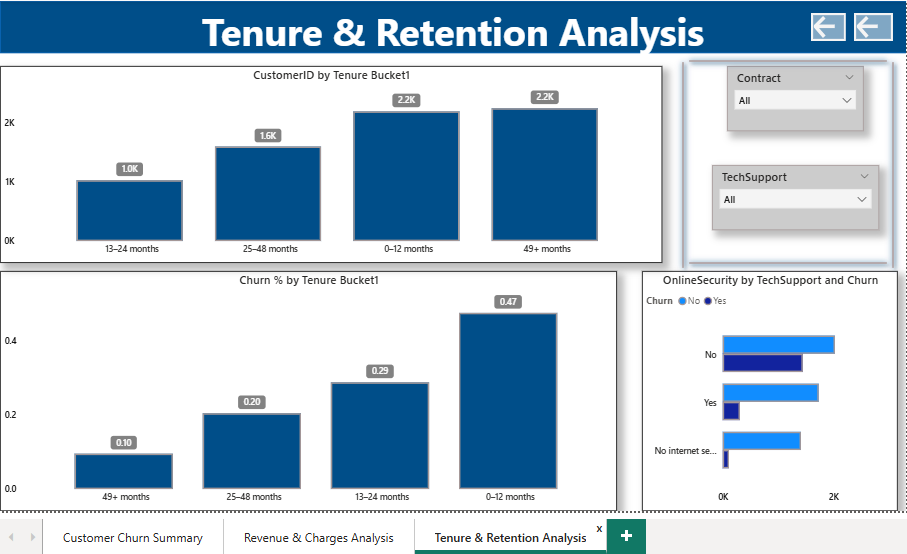

The dashboard page shown, as its layout file describes it:
{"tool":"powerbi","page":{"name":"Tenure & Retention Analysis","canvas":[1280,720],"ordinal":2},"visuals":[{"type":"shape","box":[0,0,1280.2,73.7],"z":0},{"type":"textbox","box":[278.1,0,722.8,183.5],"z":1},{"type":"columnChart","title":"CustomerID by Tenure Bucket1","fields":{"Category":["WA_Fn-UseC_-Telco-Customer-Churn.Tenure Bucket1"],"Y":["CountNonNull(WA_Fn-UseC_-Telco-Customer-Churn.customerID)"]},"box":[0,91.8,934.6,278.1],"z":2},{"type":"columnChart","fields":{"Y":["WA_Fn-UseC_-Telco-Customer-Churn.Churn %"],"Category":["WA_Fn-UseC_-Telco-Customer-Churn.Tenure Bucket1"]},"box":[0,381.2,871.1,338.8],"z":3},{"type":"clusteredBarChart","title":"OnlineSecurity by TechSupport and Churn","fields":{"Category":["WA_Fn-UseC_-Telco-Customer-Churn.TechSupport"],"Y":["CountNonNull(WA_Fn-UseC_-Telco-Customer-Churn.OnlineSecurity)"],"Series":["WA_Fn-UseC_-Telco-Customer-Churn.Churn"]},"box":[906.4,381.2,361.4,338.8],"z":4},{"type":"slicer","fields":{"Values":["WA_Fn-UseC_-Telco-Customer-Churn.Contract"]},"box":[1026.4,91.8,193.4,91.8],"z":5},{"type":"slicer","fields":{"Values":["WA_Fn-UseC_-Telco-Customer-Churn.TechSupport"]},"box":[1005.2,231.5,235.8,91.8],"z":6},{"type":"shape","box":[934.6,77.6,59.3,307.8],"z":7},{"type":"shape","box":[1240.9,77.6,39.5,307.8],"z":8},{"type":"shape","box":[964.2,0,296.5,169.4],"z":9},{"type":"shape","box":[964.2,285.2,296.5,169.4],"z":10},{"type":"actionButton","box":[1144.9,16.9,49.4,39.5],"z":11},{"type":"actionButton","box":[1205.6,16.9,55.1,39.5],"z":12}]}

Visuals, with their boxes on the page's 1280x720 design canvas (x1, y1, x2, y2). These are canvas units, not pixel positions in the 907x554 screenshot, which may show the page scaled, cropped or inside an application window:
shape: (0,0,1280,74)
textbox: (278,0,1001,184)
"CustomerID by Tenure Bucket1" columnChart: (0,92,935,370)
columnChart - WA_Fn-UseC_-Telco-Customer-Churn.Churn % x WA_Fn-UseC_-Telco-Customer-Churn.Tenure Bucket1: (0,381,871,720)
"OnlineSecurity by TechSupport and Churn" clusteredBarChart: (906,381,1268,720)
slicer - WA_Fn-UseC_-Telco-Customer-Churn.Contract: (1026,92,1220,184)
slicer - WA_Fn-UseC_-Telco-Customer-Churn.TechSupport: (1005,232,1241,323)
shape: (935,78,994,385)
shape: (1241,78,1280,385)
shape: (964,0,1261,169)
shape: (964,285,1261,455)
actionButton: (1145,17,1194,56)
actionButton: (1206,17,1261,56)
